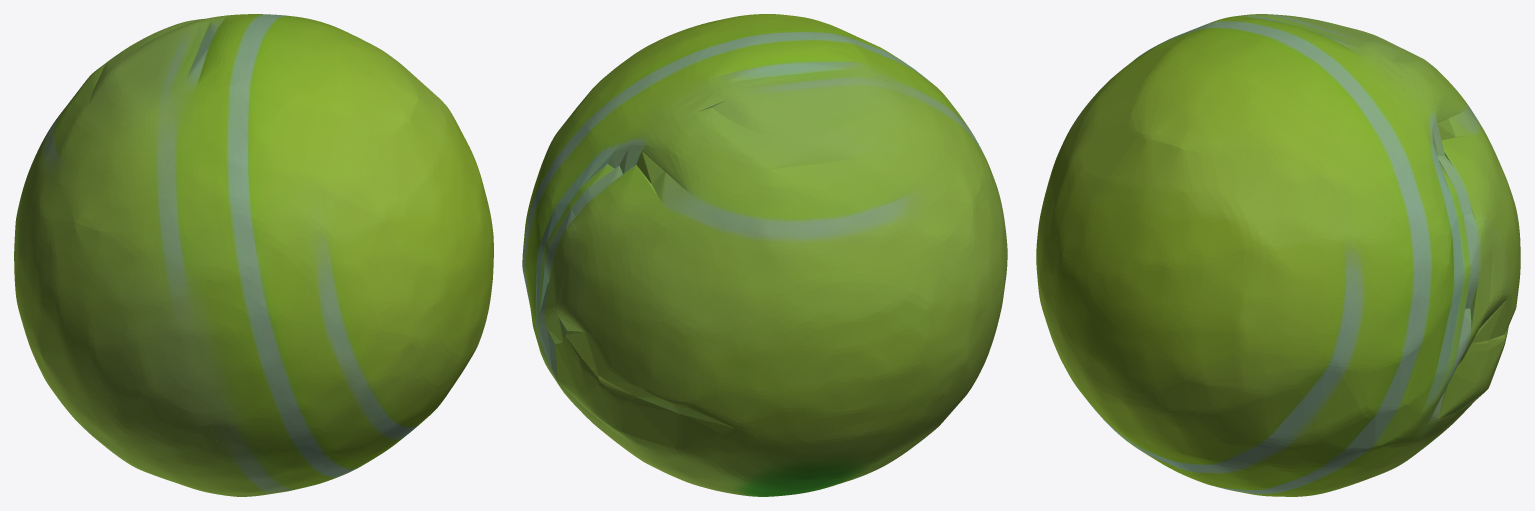
The model's file is hunyuan_recon.glb.
3 views of the same model, side by side, from view 1: azimuth 30°, elevation 25°; view 2: azimuth 150°, elevation 25°; view 3: azimuth 270°, elevation 25° (orthographic).
Parts seen in each view (by area): view 1: world; view 2: world; view 3: world.
Boxes of the visible parts, x1=… form: world: x1=14, y1=14, x2=493, y2=496; world: x1=522, y1=14, x2=1007, y2=496; world: x1=1036, y1=14, x2=1520, y2=496.
Size of the model in its own units: 0.067 by 0.0664 by 0.0661.
1 material, 1 textured.
